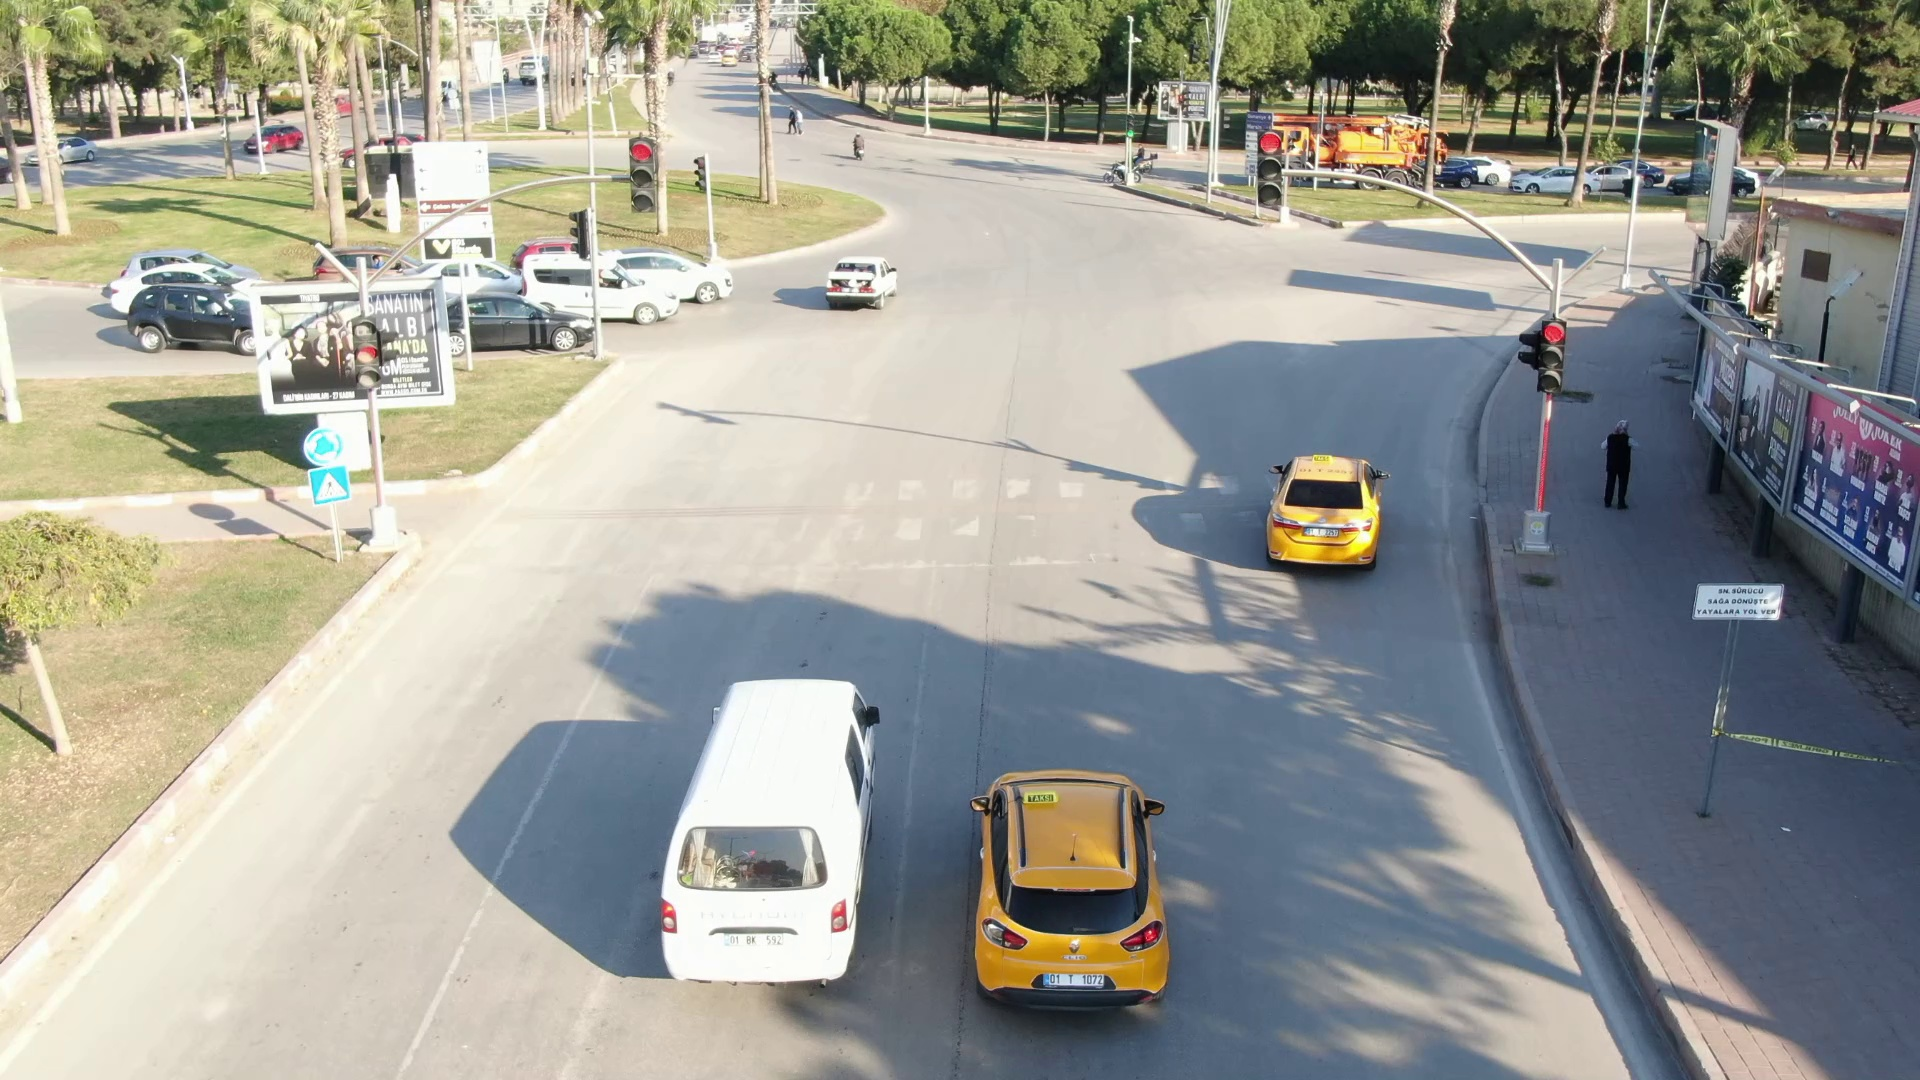car: (637, 670, 908, 986), (943, 743, 1196, 1014), (1243, 429, 1392, 576), (521, 243, 676, 329), (123, 288, 270, 359), (447, 290, 596, 355), (635, 231, 737, 300), (808, 235, 900, 312)
person: (1586, 412, 1653, 521)
